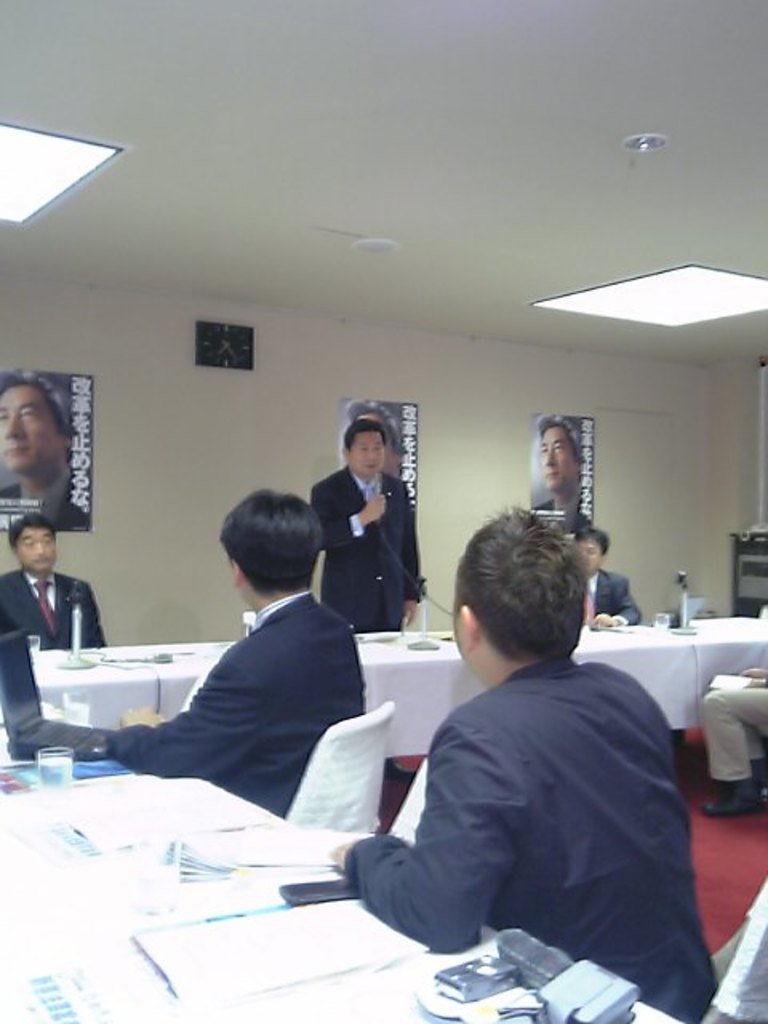Person: (0, 367, 768, 1024)
